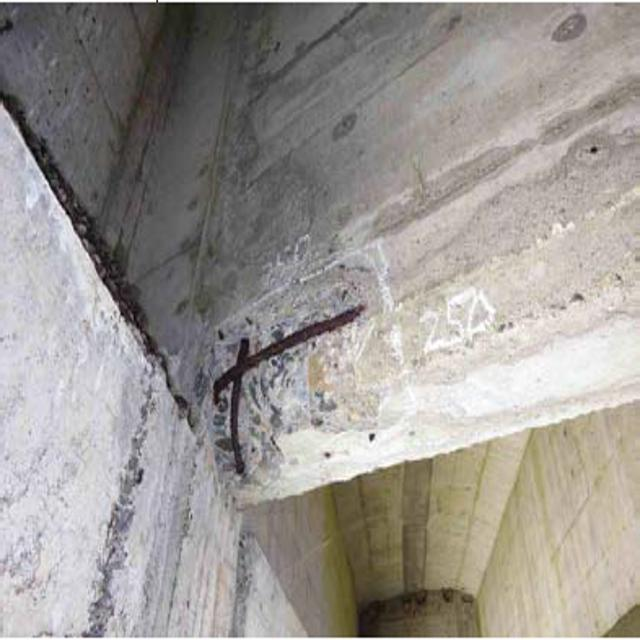spalling: (177, 234, 387, 482)
